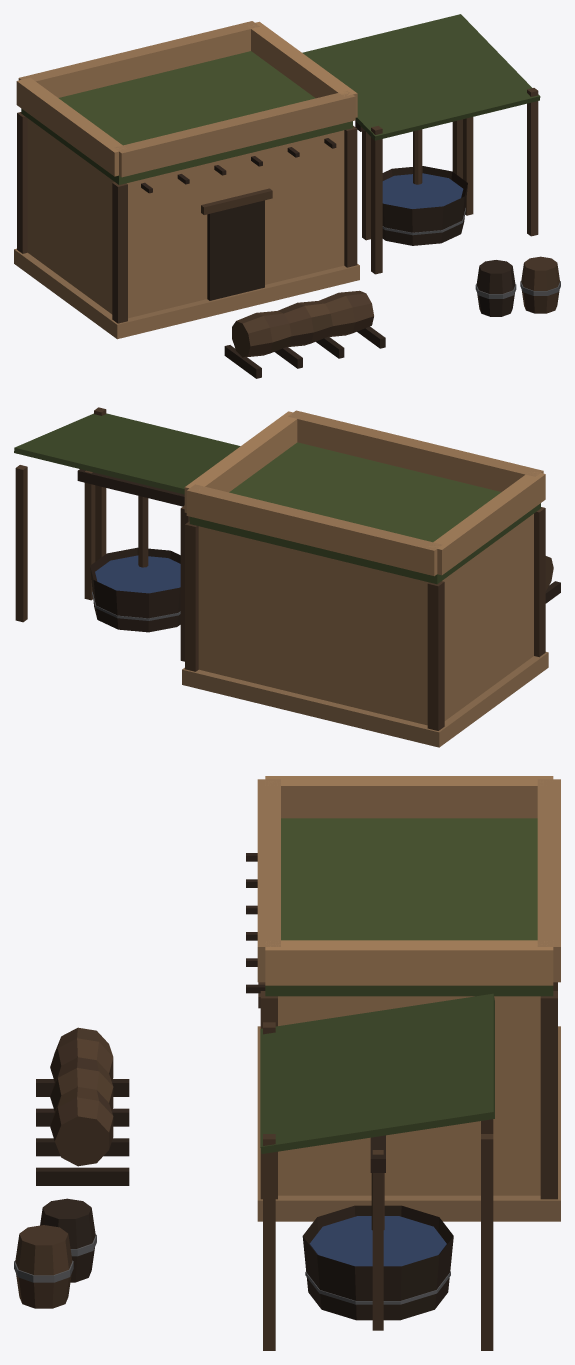
The model's file is walk_steppe_winery.glb.
The picture shows the model from 3 angles, top to bottom: view 1: azimuth 30°, elevation 25°; view 2: azimuth 150°, elevation 25°; view 3: azimuth 270°, elevation 25°; orthographic projection. The views are drawn at different scales.
Parts seen in each view (by area): view 1: walk_steppe_winery, walk_steppe_winery_roof; view 2: walk_steppe_winery, walk_steppe_winery_roof; view 3: walk_steppe_winery_roof, walk_steppe_winery.
Part boxes in pixels (x1=…): walk_steppe_winery: x1=14, y1=88, x2=560, y2=378; walk_steppe_winery_roof: x1=16, y1=14, x2=540, y2=184; walk_steppe_winery: x1=15, y1=407, x2=560, y2=747; walk_steppe_winery_roof: x1=14, y1=410, x2=545, y2=584; walk_steppe_winery_roof: x1=257, y1=776, x2=560, y2=1153; walk_steppe_winery: x1=14, y1=853, x2=560, y2=1350.
Size of what is drawn, in the model's own units: 9.25 by 3.85 by 7.03.
2 materials, 2 textured.
